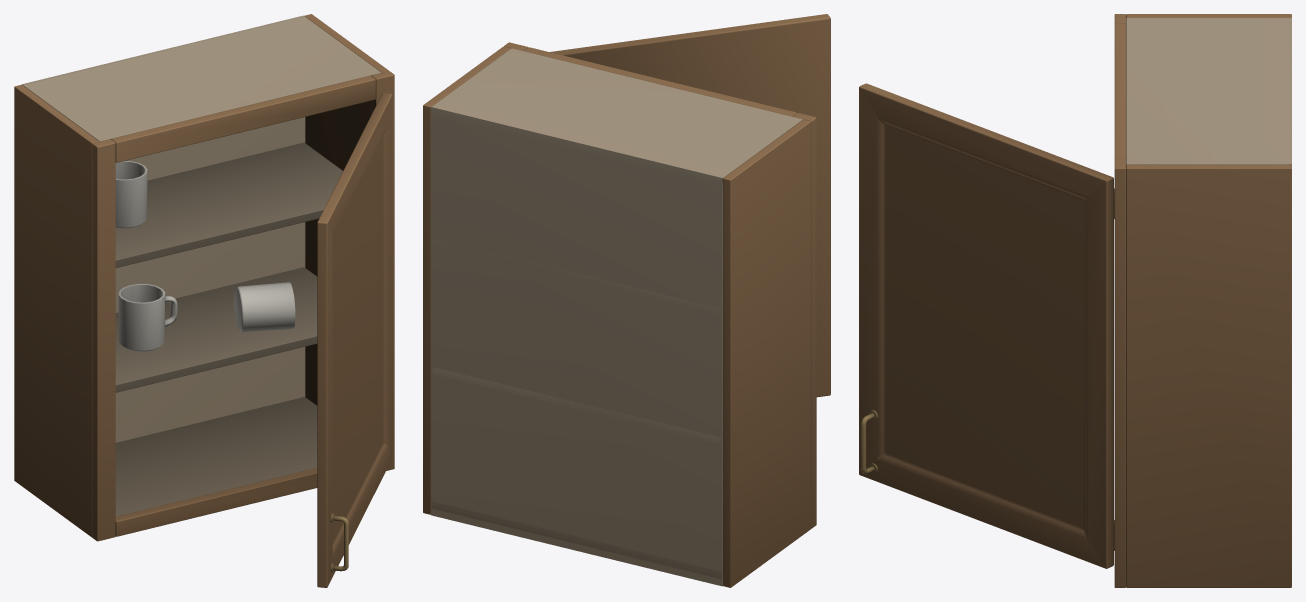
Rendered from kitchen_wall_cab_60.glb.
The picture shows the model from 3 angles, left to right: view 1: azimuth 30°, elevation 25°; view 2: azimuth 150°, elevation 25°; view 3: azimuth 270°, elevation 25°; orthographic projection. The views are drawn at different scales.
Visible parts, largest first — view 1: kitchen_wall_cab_60; view 2: kitchen_wall_cab_60; view 3: kitchen_wall_cab_60.
Boxes of the visible parts, x1,y1,x2,y2 form: kitchen_wall_cab_60: (14,14,394,587); kitchen_wall_cab_60: (423,14,830,587); kitchen_wall_cab_60: (859,14,1291,587).
Bounding box in the file's own units: 0.6001 × 0.76 × 0.71.
